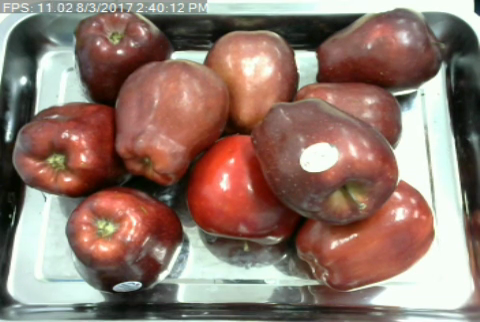Apple: (249, 95, 402, 228), (291, 174, 438, 294), (113, 56, 231, 185), (182, 131, 301, 246), (62, 186, 185, 297), (10, 100, 135, 198), (315, 3, 446, 95), (201, 26, 300, 136), (74, 7, 171, 102)
